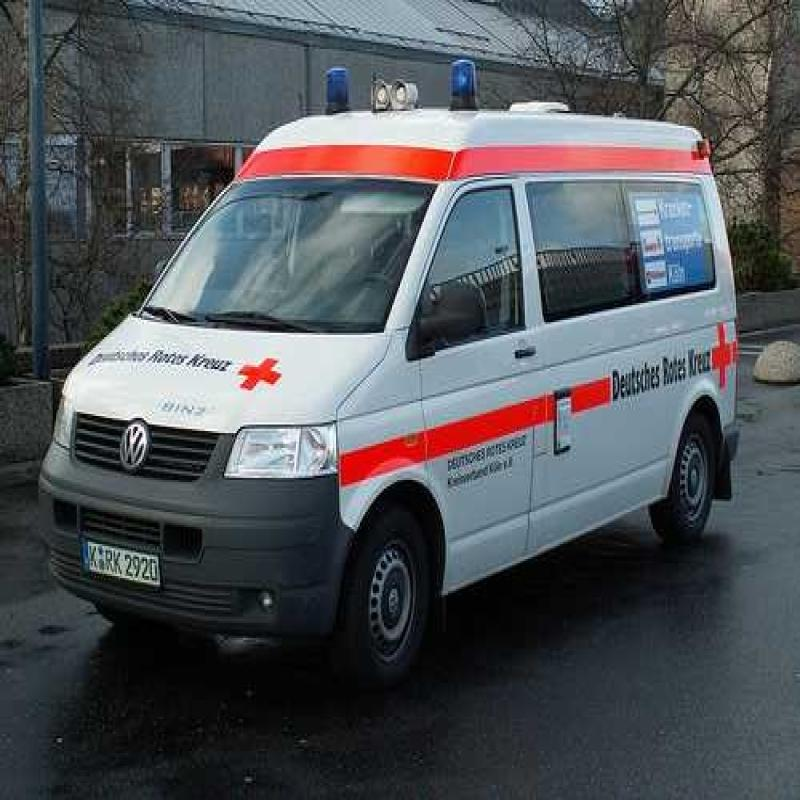AmbulanceSiren: (446, 36, 489, 128), (311, 52, 359, 118)
